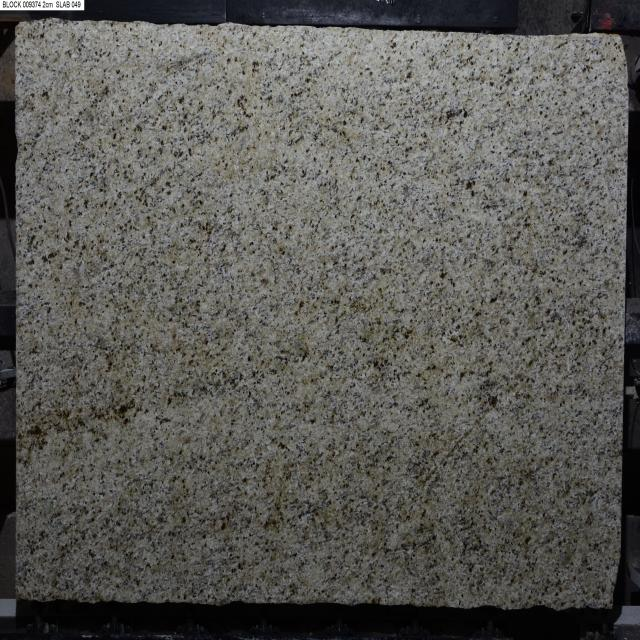chapa: (16, 21, 628, 610)
